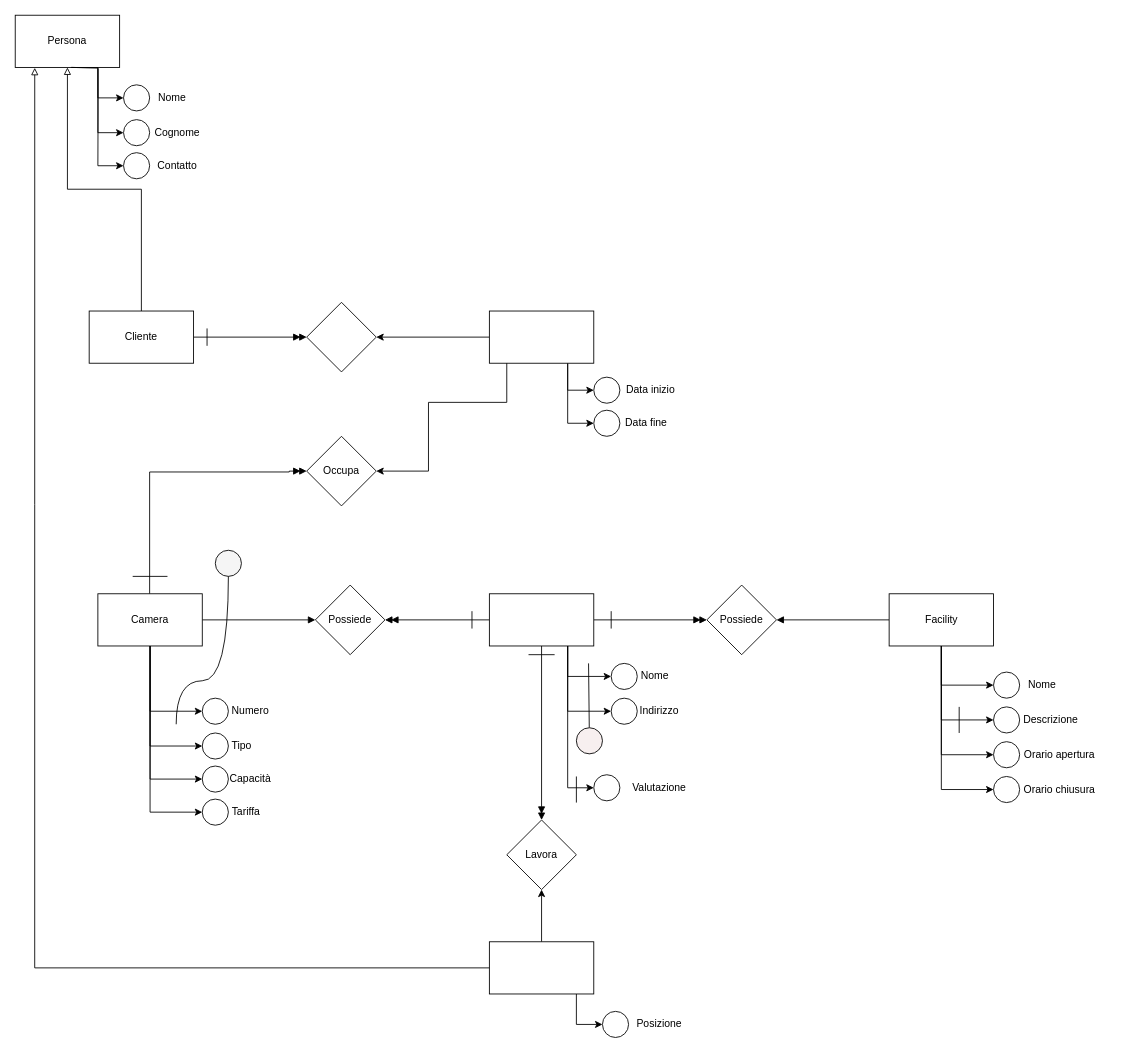
The diagram is 1121 pixels wide and 1053 high, and some of its shapes have lost their labels. The shapes that lost their labels are listed below. From the top down, each one's centre as x and y in pixels, then its label:
At [341,336]: "Effettua".
At [541,336]: "Prenotazione".
At [541,619]: "Albergo".
At [541,967]: "Dipendente".
